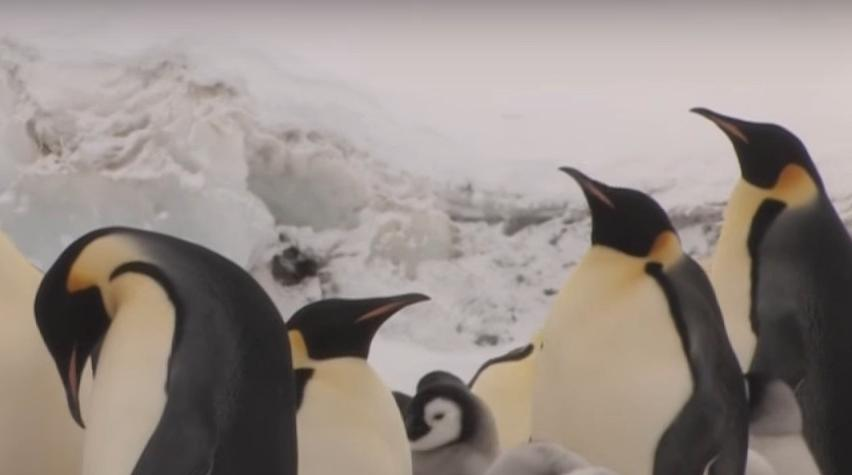Emperor Penguin: (521, 158, 744, 475), (31, 217, 296, 475), (262, 250, 458, 475), (0, 106, 70, 475)
